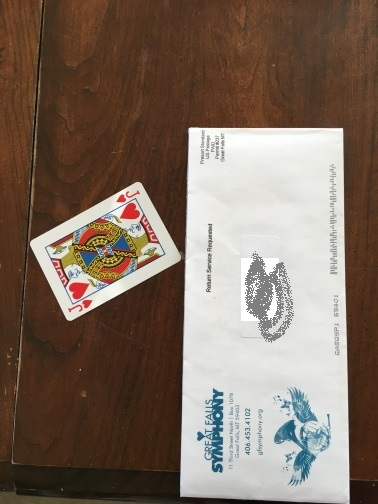jack: (29, 181, 182, 323)
